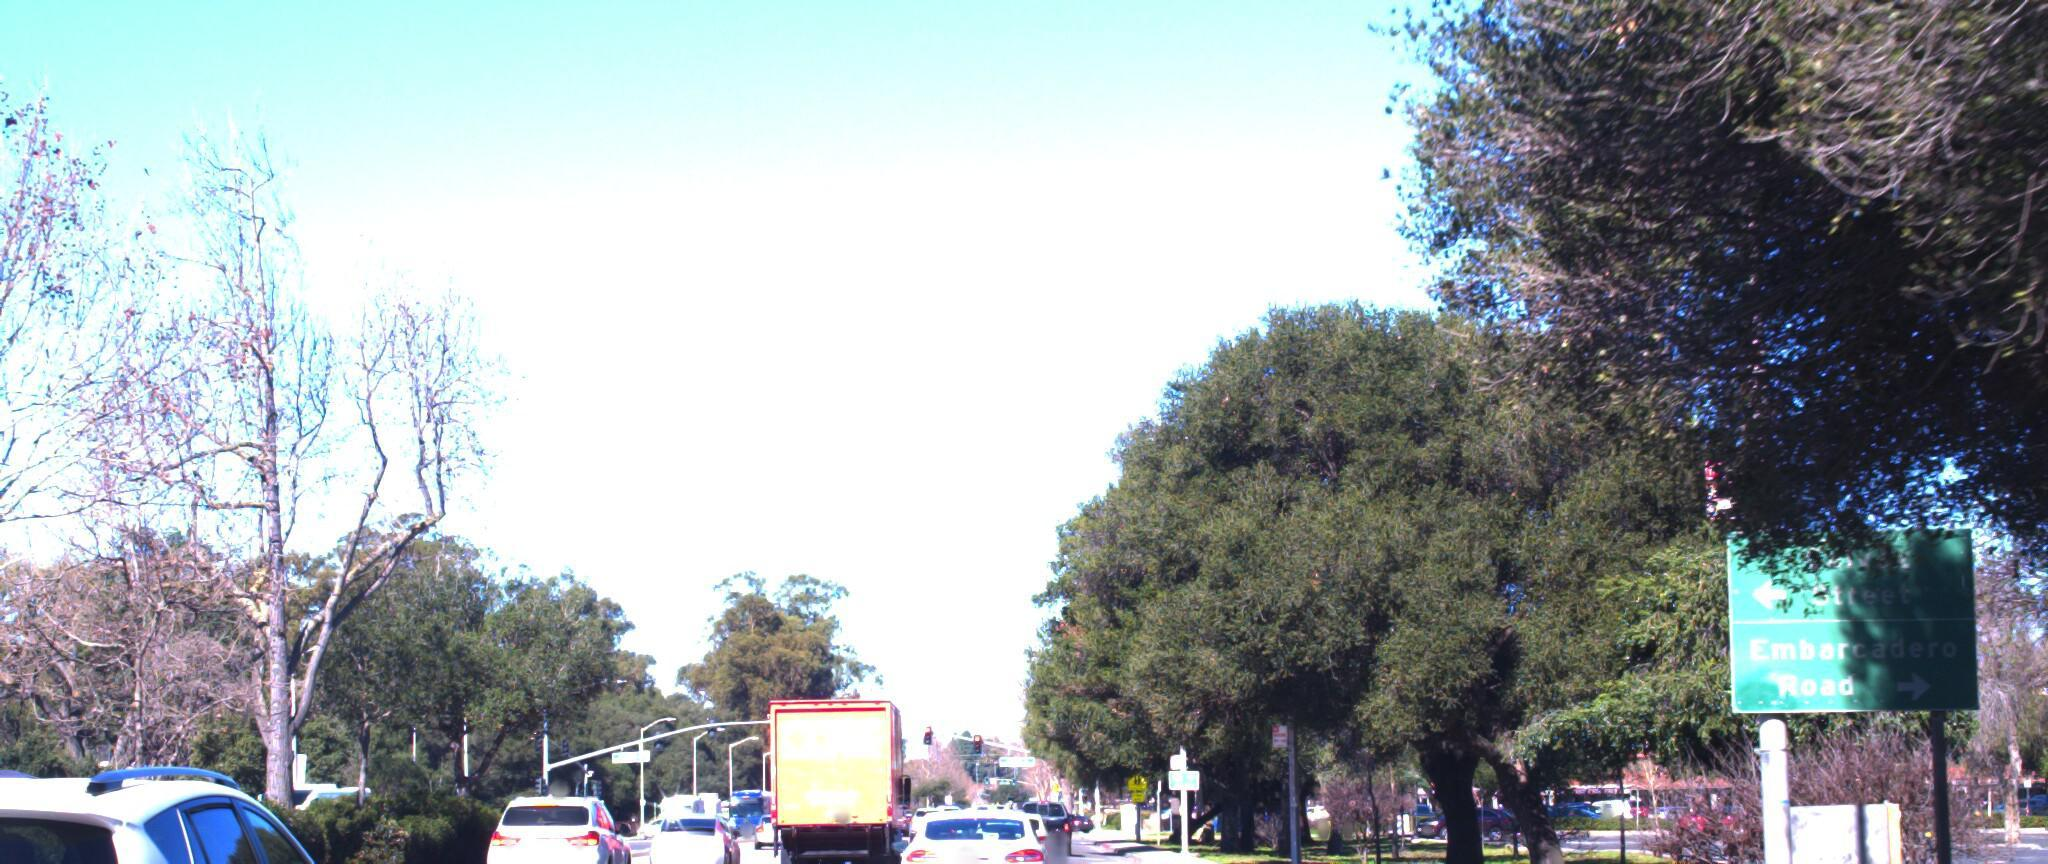car: (0, 744, 447, 864), (485, 766, 643, 864), (888, 784, 1064, 864), (631, 769, 739, 854)
truck: (763, 662, 926, 852)
